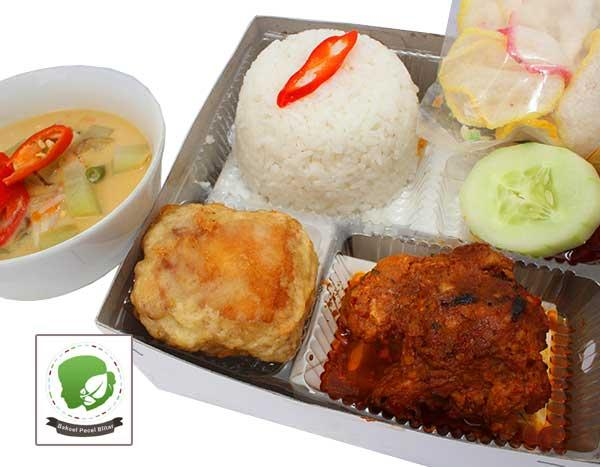buah_sayur_lainnya: (484, 164, 582, 234), (33, 170, 124, 211)
daging: (358, 269, 501, 400)
kacang_legume: (158, 214, 300, 332)
makanan_berpati: (467, 13, 588, 113), (277, 121, 408, 189)
